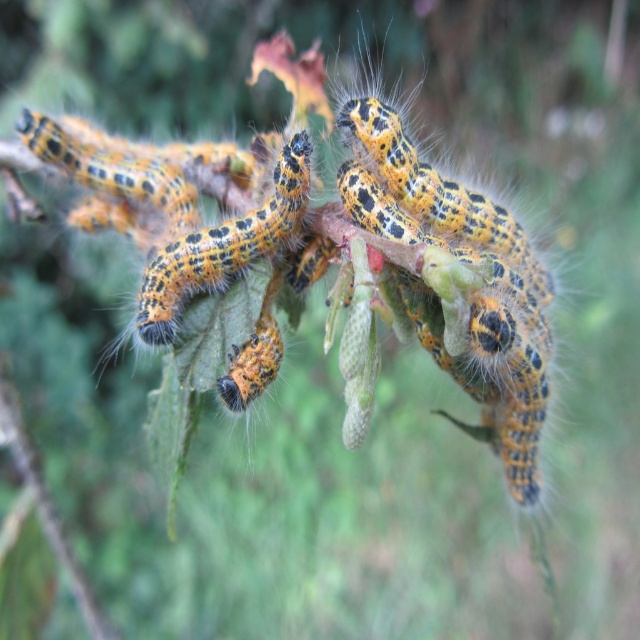Caterpillar: (10, 10, 599, 544)
